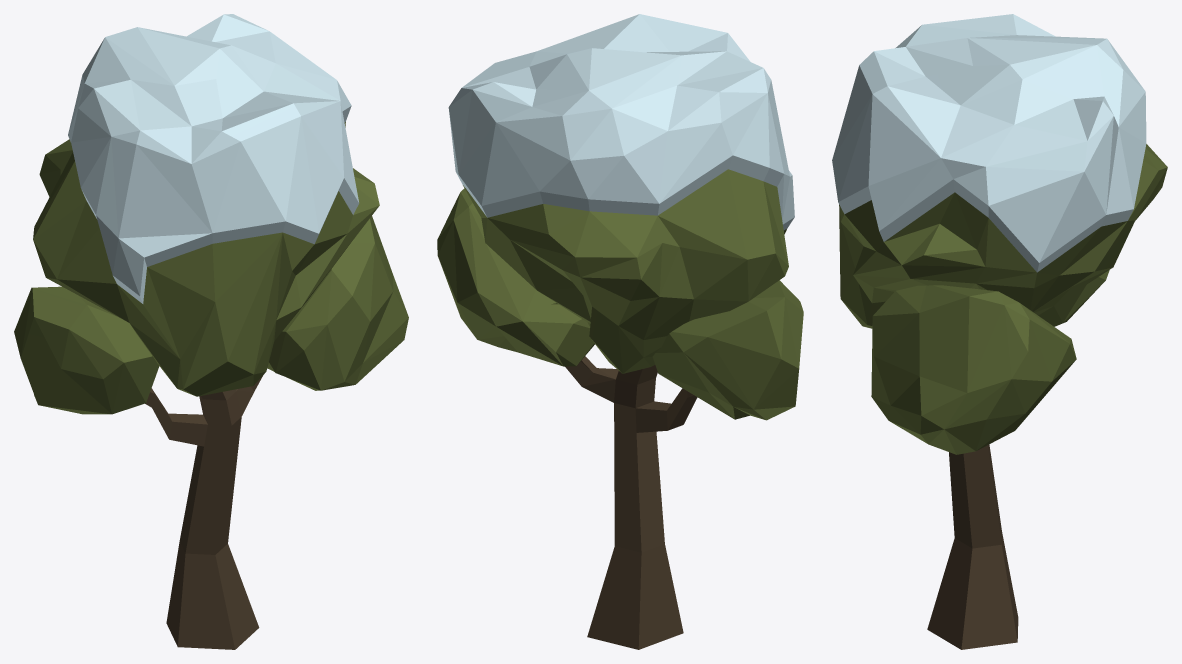
The model's file is SM_Env_Tree_09_Snow.gltf.
The picture shows the model from 3 angles, left to right: view 1: azimuth 30°, elevation 25°; view 2: azimuth 150°, elevation 25°; view 3: azimuth 270°, elevation 25°; orthographic projection. The views are drawn at different scales.
Visible parts, largest first — view 1: SM_Env_Tree_09_Snow; view 2: SM_Env_Tree_09_Snow; view 3: SM_Env_Tree_09_Snow.
Part boxes in pixels (left/top/right/bottom): SM_Env_Tree_09_Snow: left=14, top=14, right=408, bottom=649; SM_Env_Tree_09_Snow: left=437, top=14, right=803, bottom=649; SM_Env_Tree_09_Snow: left=832, top=14, right=1167, bottom=649.
Size of the model in its own units: 3.45 by 5.27 by 2.78.
1 material, 1 textured.
